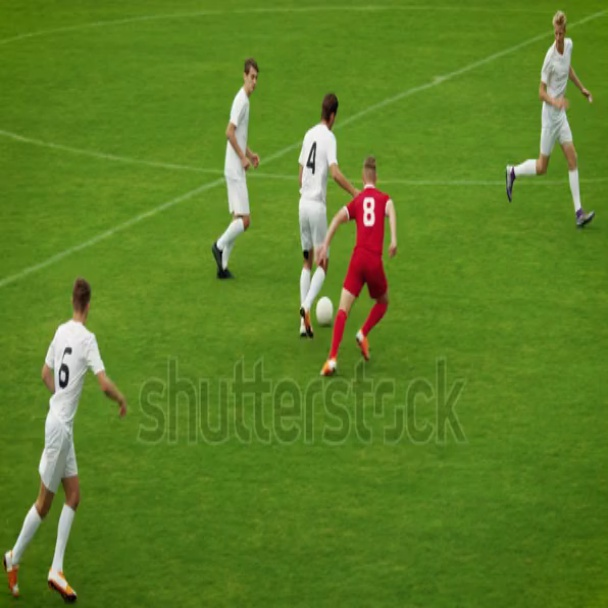ball: (318, 293, 333, 327)
